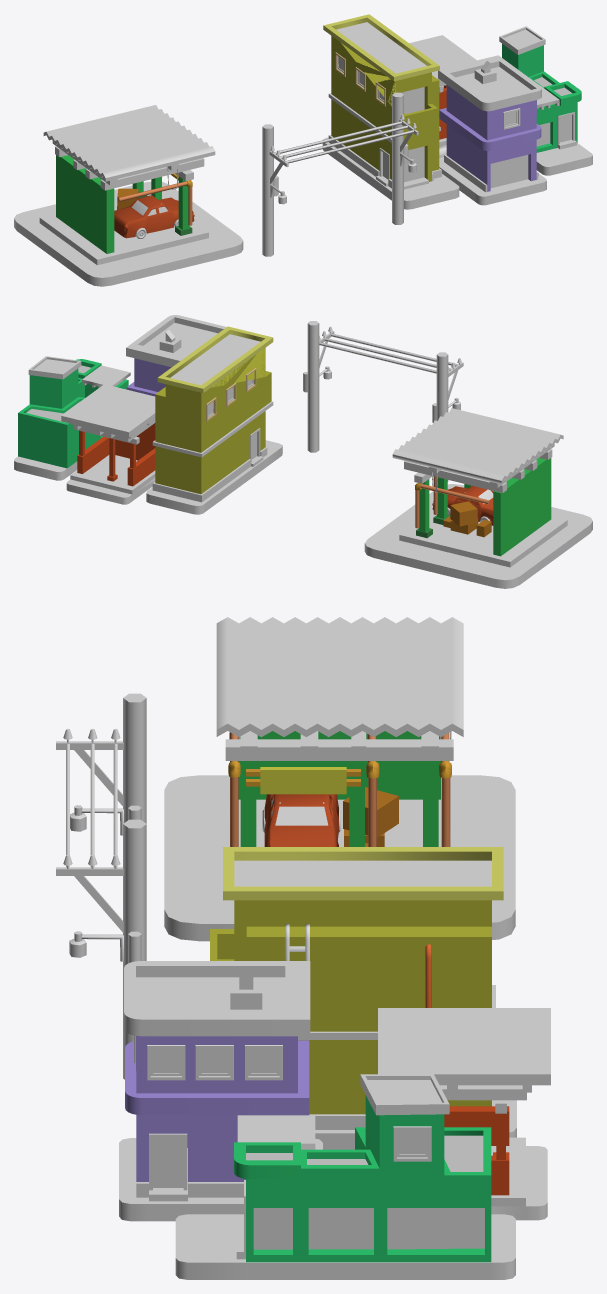
The model's file is la_terminal_m.fbx.
3 renders of one model, top to bottom at view 1: azimuth 30°, elevation 25°; view 2: azimuth 150°, elevation 25°; view 3: azimuth 270°, elevation 25°, orthographic. The views are drawn at different scales.
Parts seen in each view (by area): view 1: la_terminal_m; view 2: la_terminal_m; view 3: la_terminal_m.
Boxes of the visible parts, box(x1,y1,x2,y2) form: la_terminal_m: box(14, 14, 592, 286); la_terminal_m: box(14, 315, 592, 588); la_terminal_m: box(56, 617, 550, 1279).
Size of the model in its own units: 3025 by 731 by 1287.
